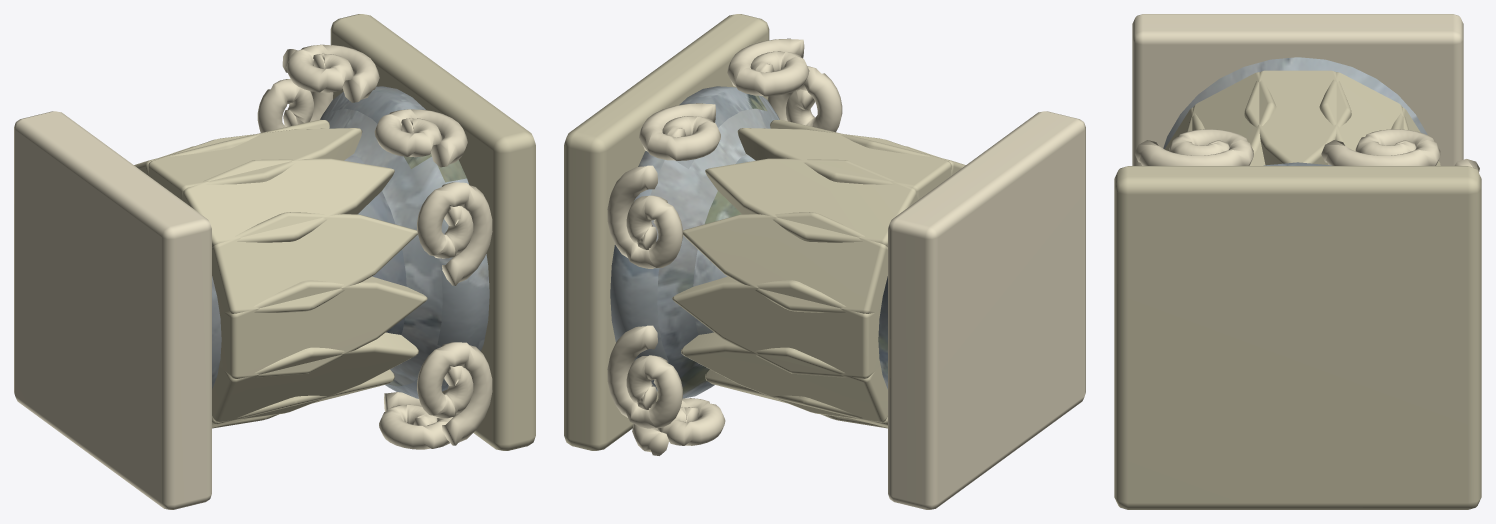
The model's file is SM_RB_FallenCapital.fbx.
3 views of the same model, side by side, from view 1: azimuth 30°, elevation 25°; view 2: azimuth 150°, elevation 25°; view 3: azimuth 270°, elevation 25° (orthographic). The views are drawn at different scales.
Parts seen in each view (by area): view 1: SM_RB_FallenCapital; view 2: SM_RB_FallenCapital; view 3: SM_RB_FallenCapital.
Boxes of the visible parts, x1,y1,x2,y2 form: SM_RB_FallenCapital: [14, 14, 535, 509]; SM_RB_FallenCapital: [564, 14, 1085, 509]; SM_RB_FallenCapital: [1114, 14, 1481, 509].
Bounding box in the file's own units: 1.49 × 1.22 × 1.22.
